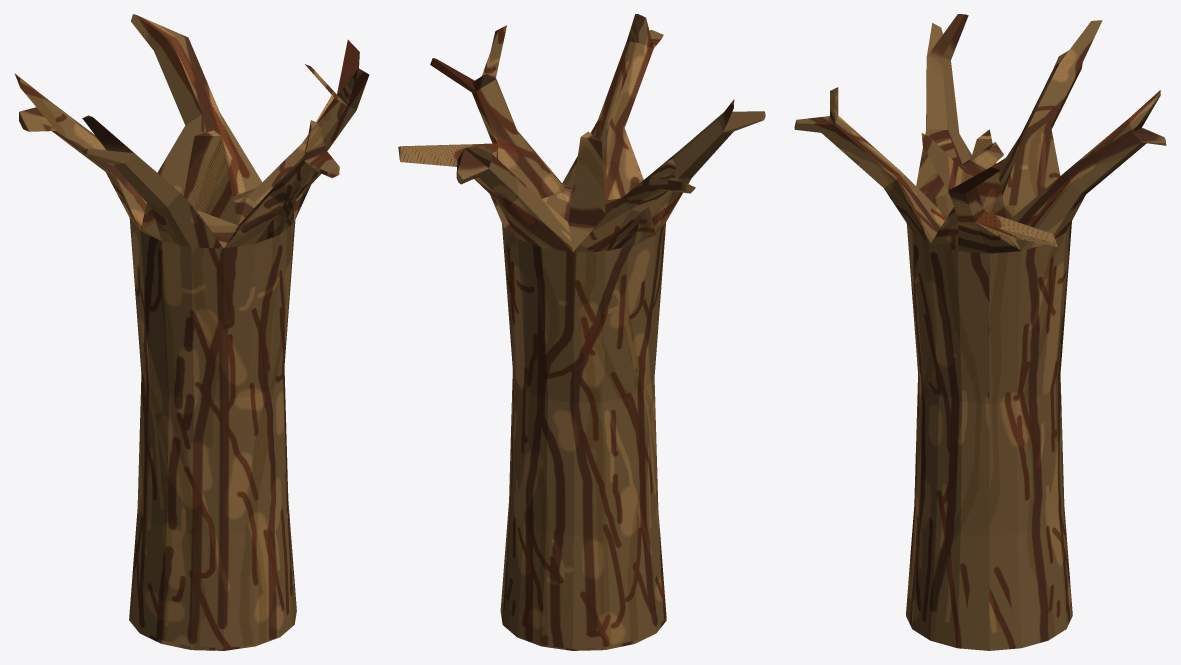
File: Tree 1.fbx
3 views of the same model, side by side, from view 1: azimuth 30°, elevation 25°; view 2: azimuth 150°, elevation 25°; view 3: azimuth 270°, elevation 25° (orthographic).
Parts seen in each view (by area): view 1: Tree Body; view 2: Tree Body; view 3: Tree Body.
Boxes of the visible parts, box(x1,y1,x2,y2) form: Tree Body: box(14, 14, 369, 650); Tree Body: box(398, 14, 765, 650); Tree Body: box(794, 14, 1166, 650).
Size of the model in its own units: 640 by 1068 by 668.
Materials: 1 (1 with a texture image).
